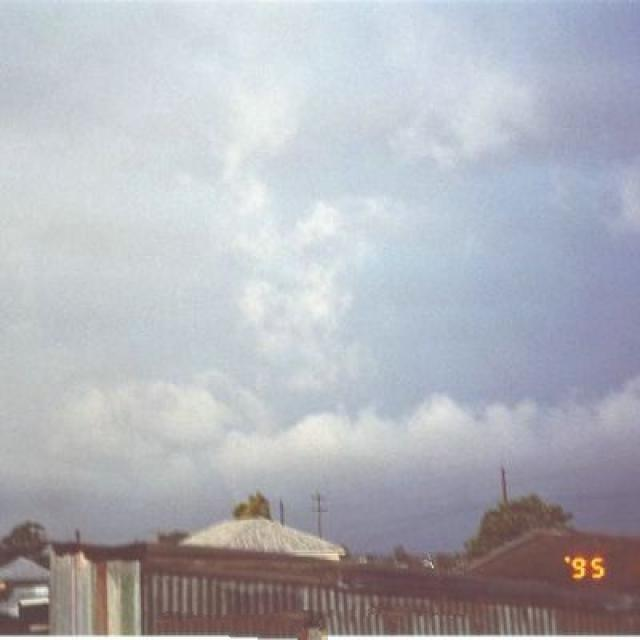Ns: (1, 104, 640, 448)
